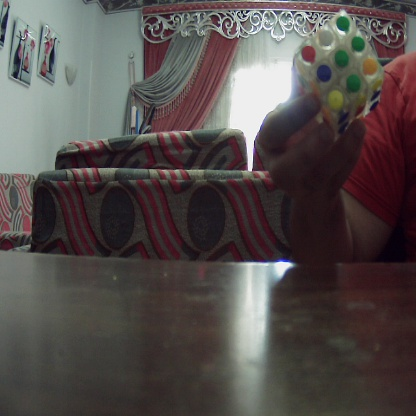Rubix Cube: (294, 12, 385, 121)
